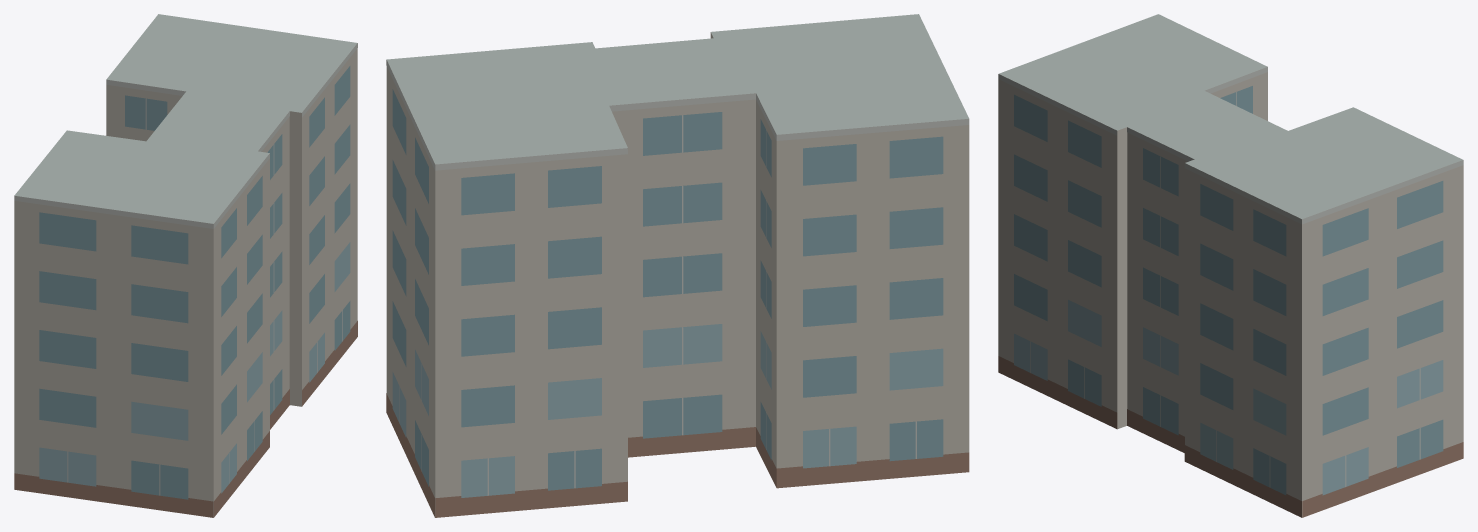
File: survey-upis-32970731.glb
3 views of the same model, side by side, from view 1: azimuth 30°, elevation 25°; view 2: azimuth 150°, elevation 25°; view 3: azimuth 270°, elevation 25° (orthographic). The views are drawn at different scales.
Parts seen in each view (by area): view 1: survey-upis-32970731.tmp; view 2: survey-upis-32970731.tmp; view 3: survey-upis-32970731.tmp.
Boxes of the visible parts, x1,y1,x2,y2 form: survey-upis-32970731.tmp: (14,14,357,517); survey-upis-32970731.tmp: (386,14,969,517); survey-upis-32970731.tmp: (998,14,1463,517).
Size of the model in its own units: 20.57 by 13.95 by 19.7.
